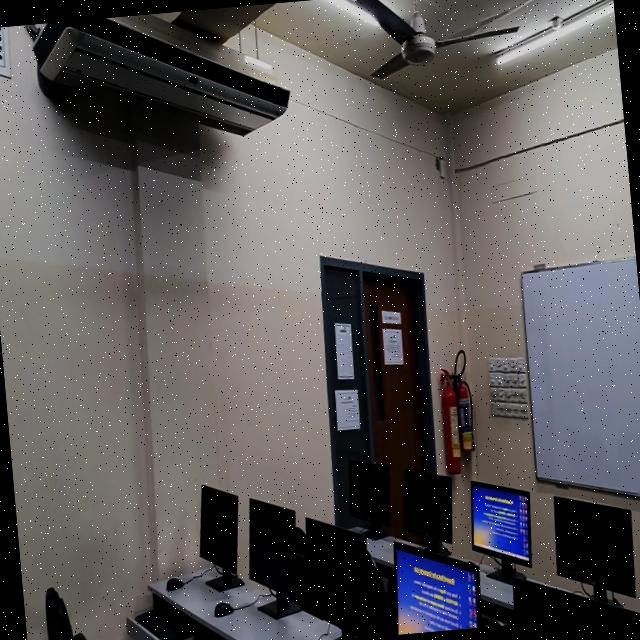Ac: (27, 14, 289, 135)
Chair: (45, 588, 87, 640), (365, 550, 390, 637)
Fire Extinguisher: (441, 376, 461, 473), (456, 381, 474, 452)
Keyboard: (135, 608, 189, 640), (203, 629, 227, 640)
Light: (494, 0, 614, 65), (327, 0, 379, 26)
Monitor: (553, 497, 635, 601), (306, 519, 369, 640), (395, 546, 479, 634), (513, 579, 640, 624), (471, 481, 531, 566), (249, 498, 295, 598), (404, 470, 452, 550), (200, 485, 238, 572), (349, 460, 390, 530)
Mouse: (214, 602, 233, 616), (166, 577, 184, 591)
